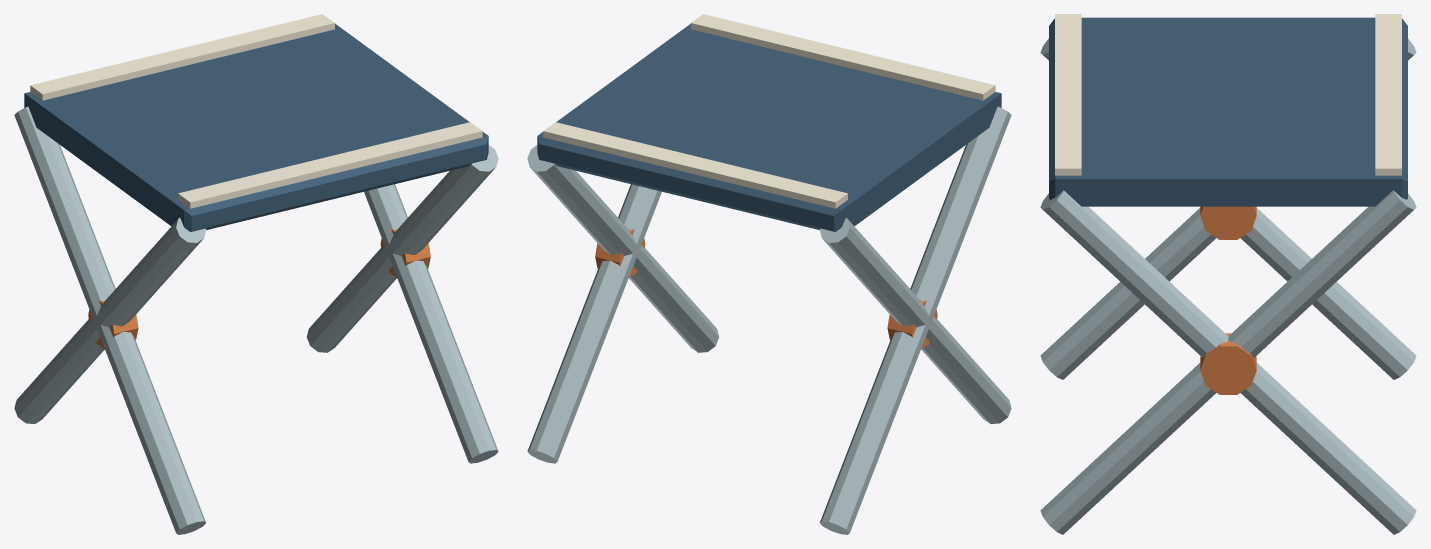
The model's file is harbor-and-tackle-folding-fishing-stool-c860097d__19576.glb.
3 views of the same model, side by side, from view 1: azimuth 30°, elevation 25°; view 2: azimuth 150°, elevation 25°; view 3: azimuth 270°, elevation 25° (orthographic). The views are drawn at different scales.
Visible parts, largest first — view 1: navy, metal, ivory, orange; view 2: navy, metal, ivory, orange; view 3: navy, metal, ivory, orange.
Boxes of the visible parts, x1,y1,x2,y2 form: navy: [24, 23, 488, 231]; metal: [14, 106, 498, 534]; ivory: [30, 14, 482, 208]; orange: [88, 229, 430, 349]; navy: [537, 23, 1001, 231]; metal: [527, 106, 1011, 534]; ivory: [543, 14, 995, 208]; orange: [595, 229, 937, 349]; navy: [1049, 17, 1407, 206]; metal: [1040, 38, 1416, 534]; ivory: [1055, 14, 1401, 175]; orange: [1200, 206, 1256, 394].
Bounding box in the file's own units: 0.5269 × 0.5261 × 0.4929.
